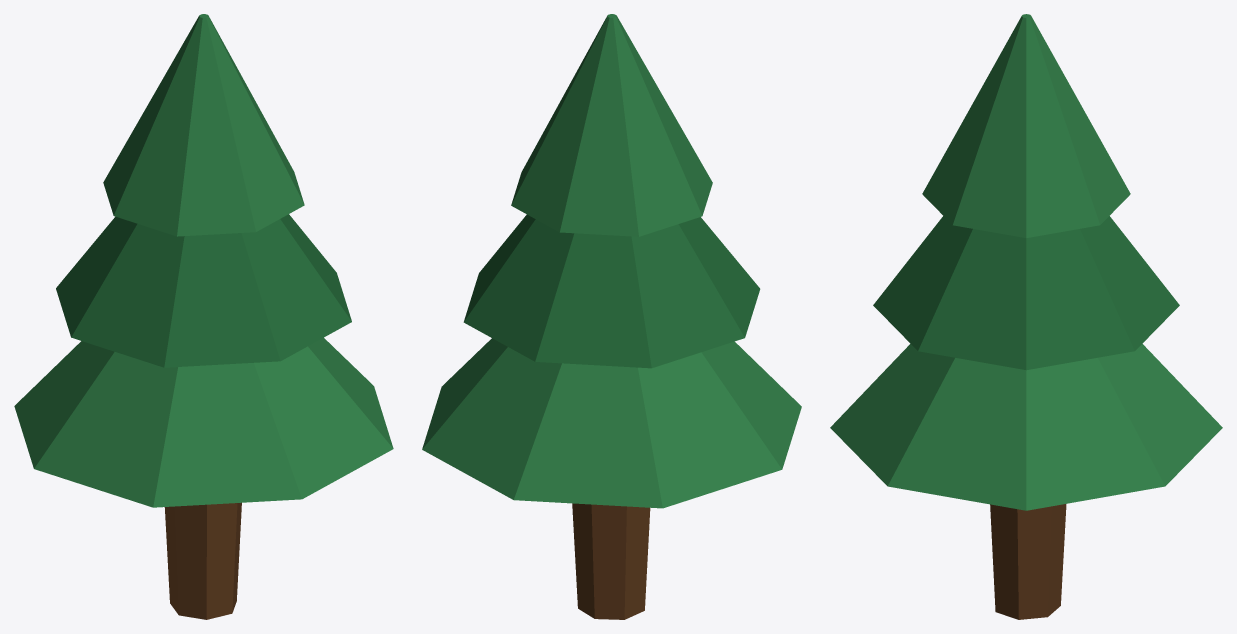
Rendered from pine.glb.
3 renders of one model, left to right at view 1: azimuth 30°, elevation 25°; view 2: azimuth 150°, elevation 25°; view 3: azimuth 270°, elevation 25°, orthographic.
Visible parts, largest first — view 1: g_m_2f7d46, g_m_256b3a, g_m_6b4423; view 2: g_m_2f7d46, g_m_256b3a, g_m_6b4423; view 3: g_m_2f7d46, g_m_256b3a, g_m_6b4423.
Boxes of the visible parts, left/top/right/bottom form: g_m_2f7d46: left=14, top=14, right=393, bottom=507; g_m_256b3a: left=56, top=214, right=351, bottom=367; g_m_6b4423: left=164, top=502, right=241, bottom=619; g_m_2f7d46: left=422, top=14, right=801, bottom=508; g_m_256b3a: left=463, top=214, right=760, bottom=368; g_m_6b4423: left=572, top=503, right=650, bottom=619; g_m_2f7d46: left=830, top=14, right=1222, bottom=510; g_m_256b3a: left=873, top=216, right=1179, bottom=370; g_m_6b4423: left=990, top=504, right=1066, bottom=619.
Bounding box in the file's own units: 3.2 × 5.3 × 3.2.
